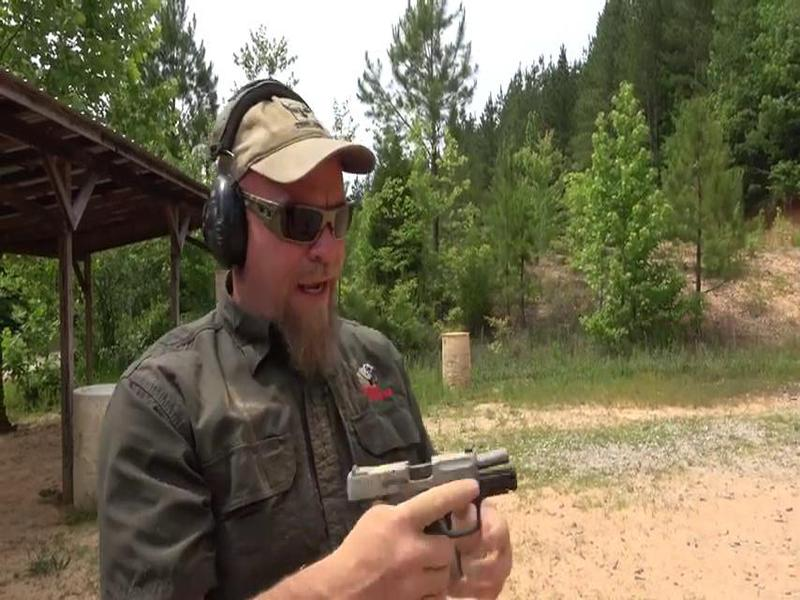Pistola: (327, 437, 512, 589)
